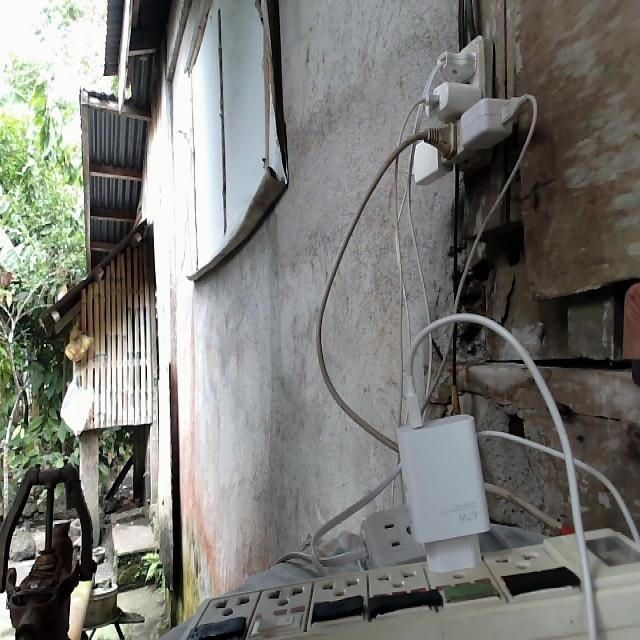-: (402, 32, 536, 187)
